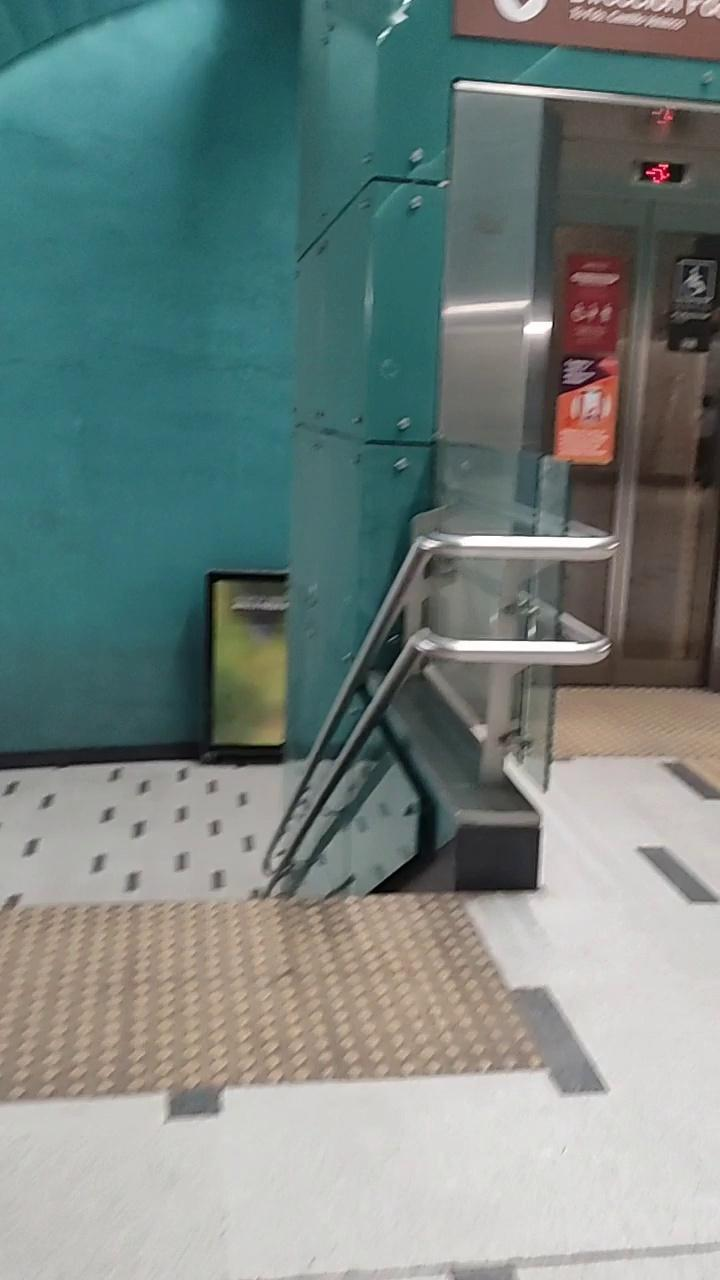handicapped symbol: (683, 266, 708, 296)
